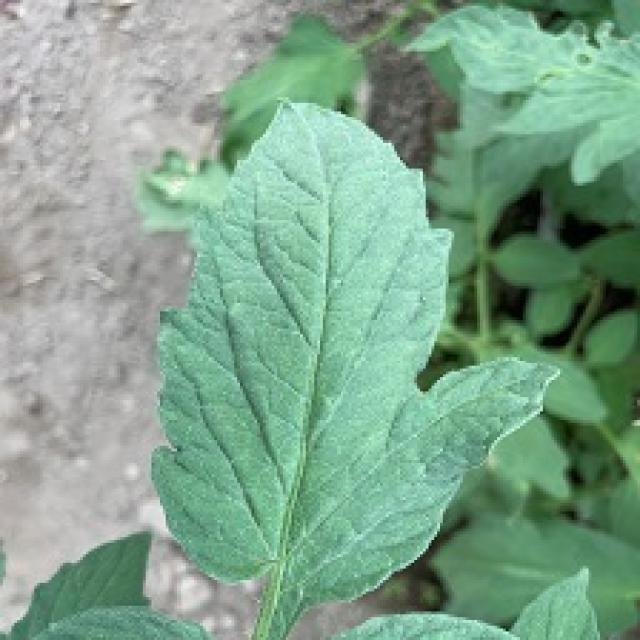Healthy: (4, 64, 603, 640)
